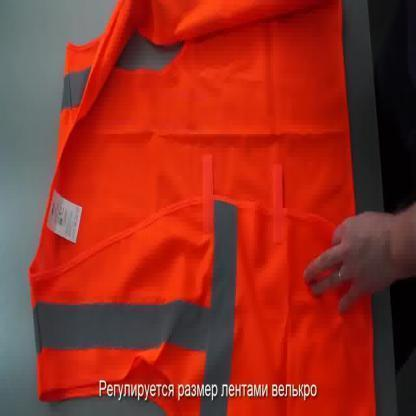vest: (26, 0, 377, 415)
